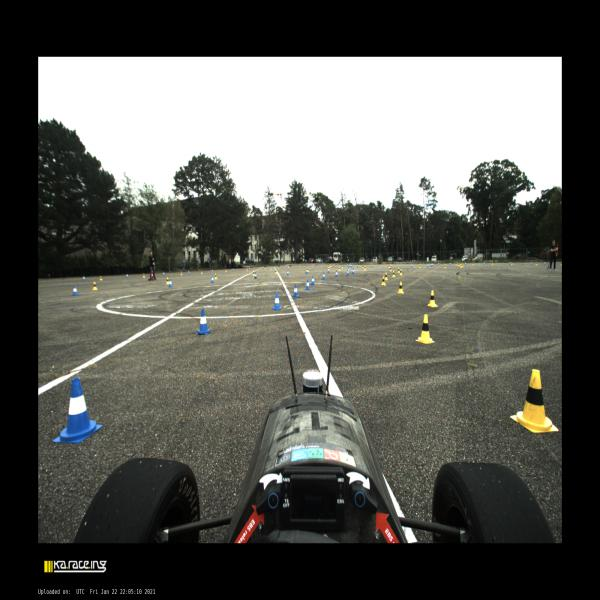blue_cone: (53, 378, 102, 443), (196, 309, 211, 335), (272, 293, 282, 310), (293, 285, 299, 297), (72, 286, 79, 296), (310, 276, 315, 285), (306, 279, 310, 290), (168, 279, 173, 287), (322, 272, 325, 280), (335, 270, 338, 278), (211, 276, 214, 283), (254, 272, 257, 279), (327, 267, 330, 273), (82, 275, 85, 280), (352, 268, 354, 274), (306, 268, 308, 274), (347, 270, 349, 275), (287, 270, 289, 275), (427, 264, 429, 268), (483, 262, 485, 265), (449, 262, 451, 265), (411, 264, 413, 267), (430, 263, 432, 266), (371, 264, 373, 267), (126, 274, 128, 277), (163, 272, 165, 275), (232, 268, 234, 271), (313, 264, 315, 267), (390, 264, 392, 267), (544, 262, 546, 264), (438, 262, 439, 266), (211, 270, 213, 272), (300, 265, 302, 267), (323, 264, 325, 266), (333, 264, 335, 266), (343, 264, 345, 266), (357, 264, 358, 268), (348, 264, 350, 266), (509, 262, 511, 264), (557, 261, 558, 264), (465, 262, 466, 265), (188, 271, 189, 274), (250, 267, 251, 270), (286, 265, 287, 268), (351, 264, 352, 267), (350, 264, 351, 267), (432, 263, 433, 266), (531, 262, 532, 264), (263, 267, 264, 269), (275, 266, 276, 268), (347, 264, 348, 266)
yellow_cone: (510, 369, 559, 434), (416, 314, 435, 344), (427, 290, 438, 308), (397, 282, 404, 294), (92, 282, 98, 290), (381, 276, 386, 285), (392, 270, 396, 278), (399, 268, 403, 276), (385, 272, 388, 281), (166, 277, 169, 284), (214, 273, 217, 280), (100, 275, 103, 281), (180, 270, 183, 276), (397, 268, 400, 273), (418, 264, 421, 268), (390, 266, 392, 272), (252, 270, 254, 276), (460, 263, 462, 268), (143, 273, 145, 278), (275, 269, 277, 274), (338, 266, 340, 271), (307, 267, 309, 272), (444, 264, 446, 268), (201, 270, 203, 274), (225, 268, 227, 272), (364, 266, 366, 270), (510, 262, 512, 265), (472, 262, 474, 265), (388, 265, 390, 268), (277, 266, 279, 269), (321, 264, 323, 267), (328, 265, 330, 268), (560, 262, 562, 265), (457, 262, 458, 266), (246, 268, 248, 270), (265, 266, 266, 270), (299, 264, 300, 268), (459, 262, 460, 266), (462, 263, 463, 267), (536, 262, 537, 265), (492, 262, 493, 265), (342, 265, 343, 268), (363, 265, 364, 268), (312, 264, 313, 267), (330, 264, 331, 267), (288, 266, 289, 268)
